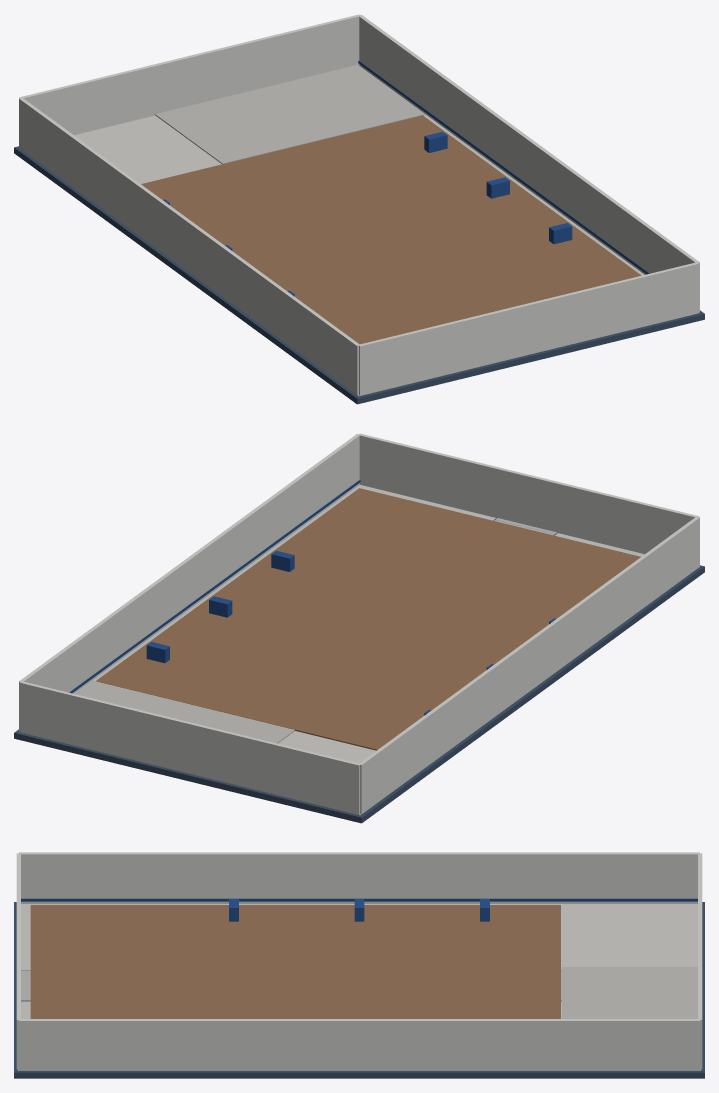
The model's file is pavimento-3.glb.
3 renders of one model, top to bottom at view 1: azimuth 30°, elevation 25°; view 2: azimuth 150°, elevation 25°; view 3: azimuth 270°, elevation 25°, orthographic.
Parts seen in each view (by area): view 1: floors, structure, furniture; view 2: floors, structure, furniture; view 3: floors, structure, furniture.
Boxes of the visible parts, x1,y1,x2,y2 form: floors: (14,65,704,404); structure: (19,14,699,395); furniture: (163,131,572,296); floors: (14,485,704,823); structure: (19,433,699,814); furniture: (146,550,555,715); floors: (14,902,704,1078); structure: (16,852,702,1070); furniture: (229,899,489,921).
Size of the model in its own units: 22.55 by 3.47 by 38.55.
